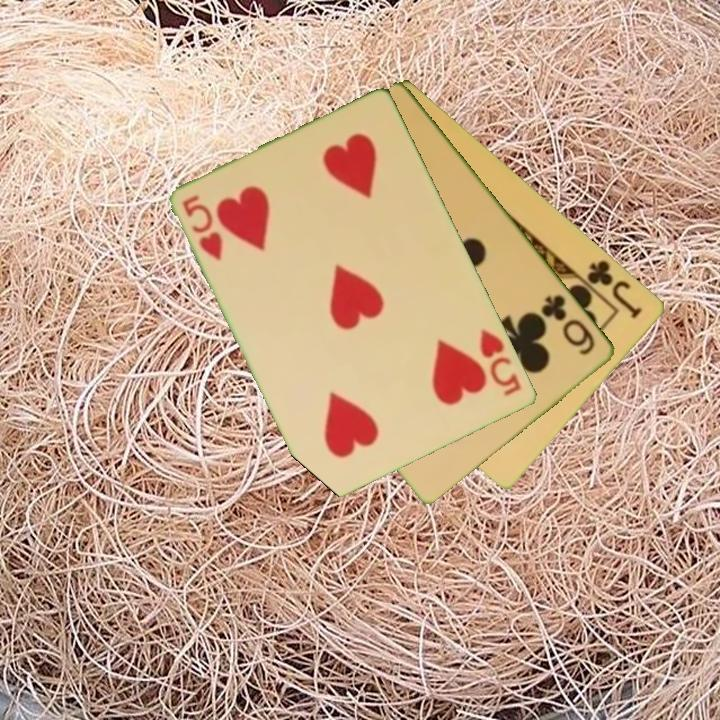5h: (477, 325, 525, 399), (179, 191, 226, 264)
6c: (538, 291, 599, 358)
Jc: (574, 256, 646, 322)
